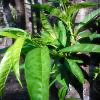Peach leaf: (24, 46, 51, 99), (20, 1, 70, 27), (10, 36, 31, 88), (68, 2, 100, 22), (39, 8, 57, 40), (64, 57, 84, 84), (58, 13, 67, 49)
